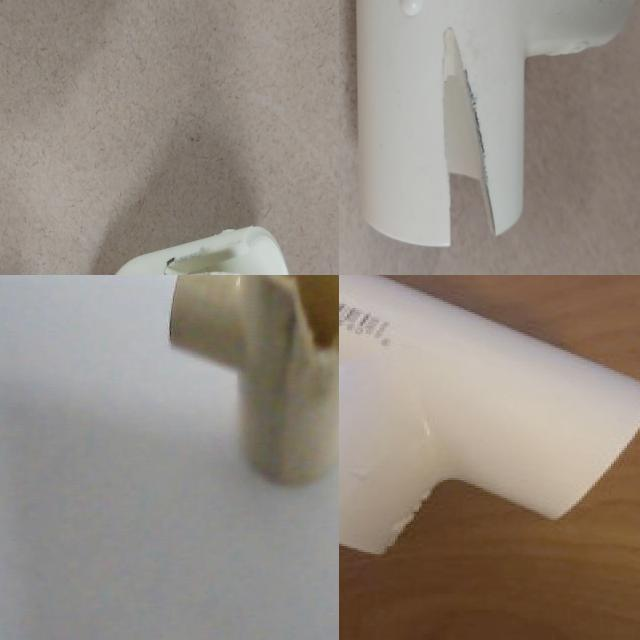Defective: (381, 0, 546, 53), (35, 185, 97, 275), (286, 275, 339, 373), (285, 275, 339, 351)
L Joint: (32, 133, 236, 275)
T Joint: (339, 275, 640, 557), (167, 275, 339, 490), (339, 0, 539, 169)
